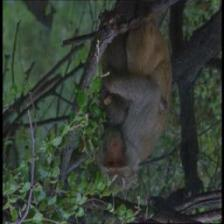monkey: (88, 124, 141, 195), (96, 94, 127, 122)
